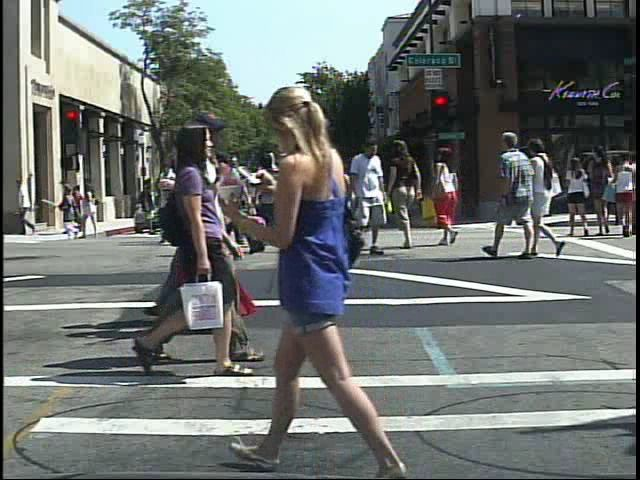person: (240, 73, 430, 478), (132, 117, 249, 382), (156, 133, 265, 341), (196, 104, 271, 365), (167, 132, 211, 334), (347, 136, 392, 261), (493, 127, 532, 262), (527, 133, 567, 262), (216, 140, 257, 260), (393, 135, 432, 259), (257, 150, 300, 261), (430, 145, 473, 254), (253, 148, 296, 249), (182, 154, 221, 251), (214, 151, 251, 251), (563, 149, 595, 240), (159, 172, 179, 241), (68, 182, 88, 232)
